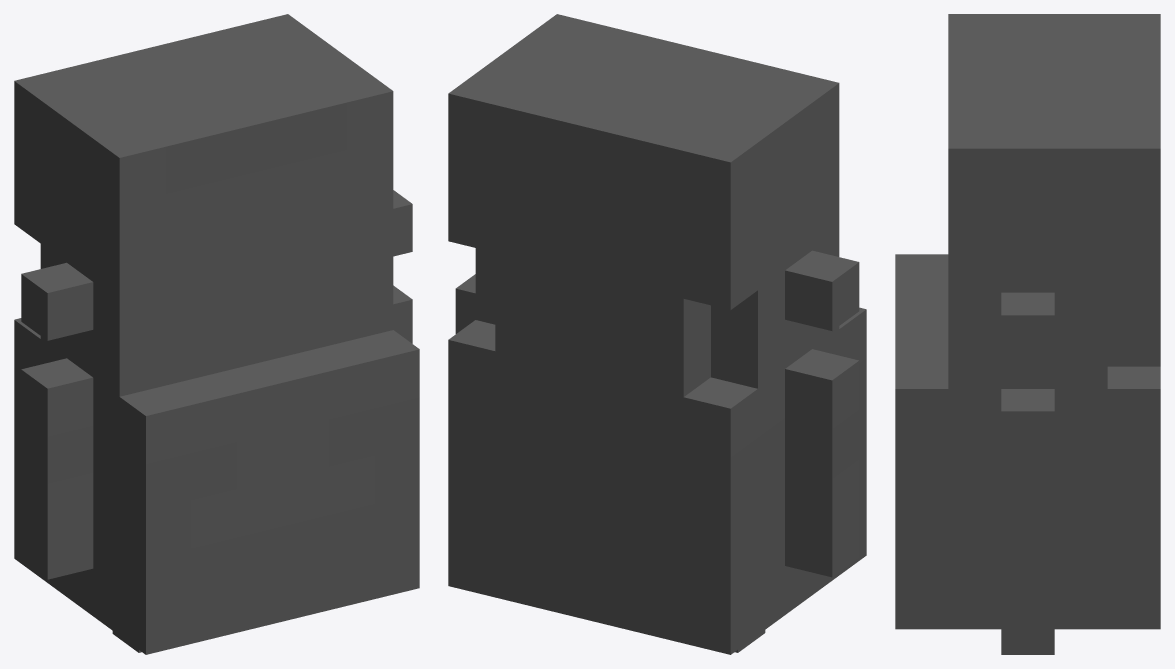
File: chr_sports2.obj
3 views of the same model, side by side, from view 1: azimuth 30°, elevation 25°; view 2: azimuth 150°, elevation 25°; view 3: azimuth 270°, elevation 25° (orthographic). The views are drawn at different scales.
Size of the model in its own units: 8 by 11 by 5.
